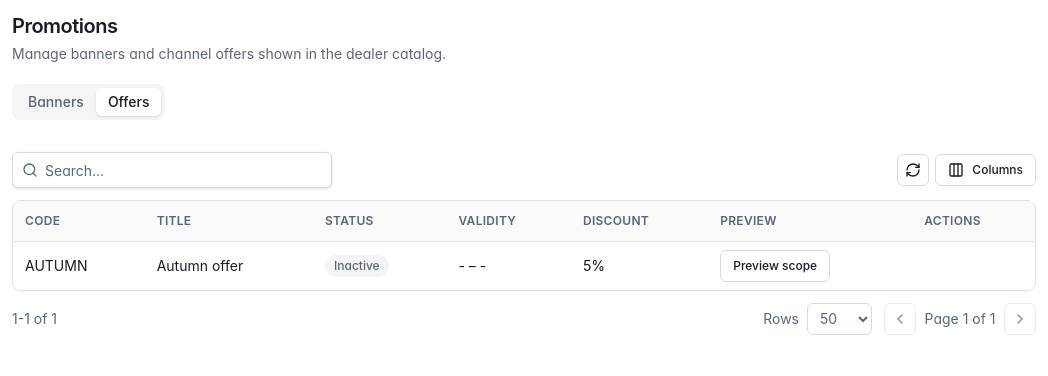
Test: catalog images and promotion scope › previews an offer through its bounded server projection
The width and height of the screenshot is (1048, 376).
Click the button "Preview scope" at x=775, y=266, box x1=720 y1=250 x2=830 y2=282
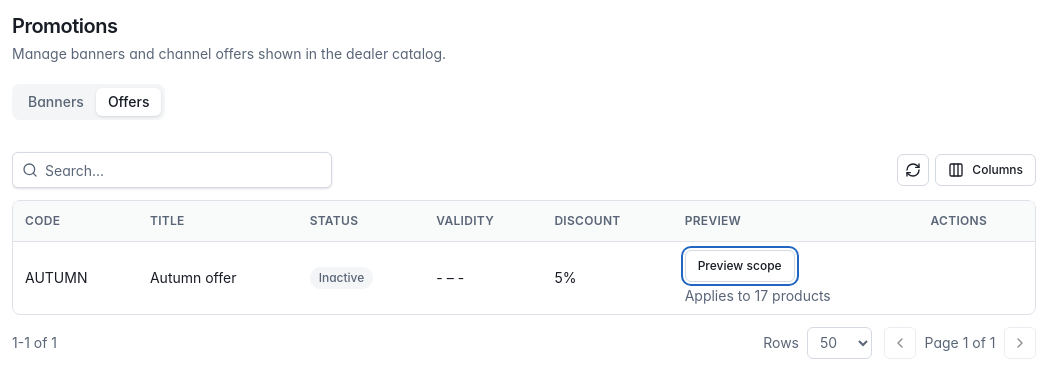
Result: the text "Applies to 17 products" is shown at x1=685 y1=286 x2=831 y2=304
